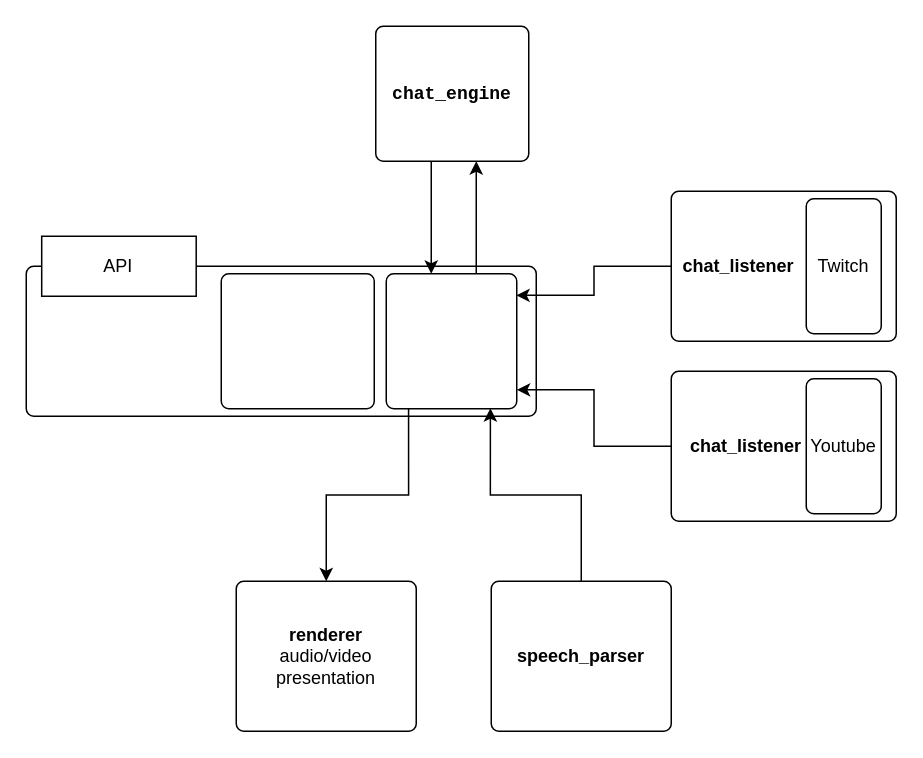
Image size: 923x758. Some labels were removed from this diagram. Here are the shapes that lost their labels. From the top down, the box of each, then its label:
(25, 265, 212, 416): core for configuration and initial setup
(220, 272, 374, 409): Postgres
(385, 272, 517, 409): RabbitMQ
